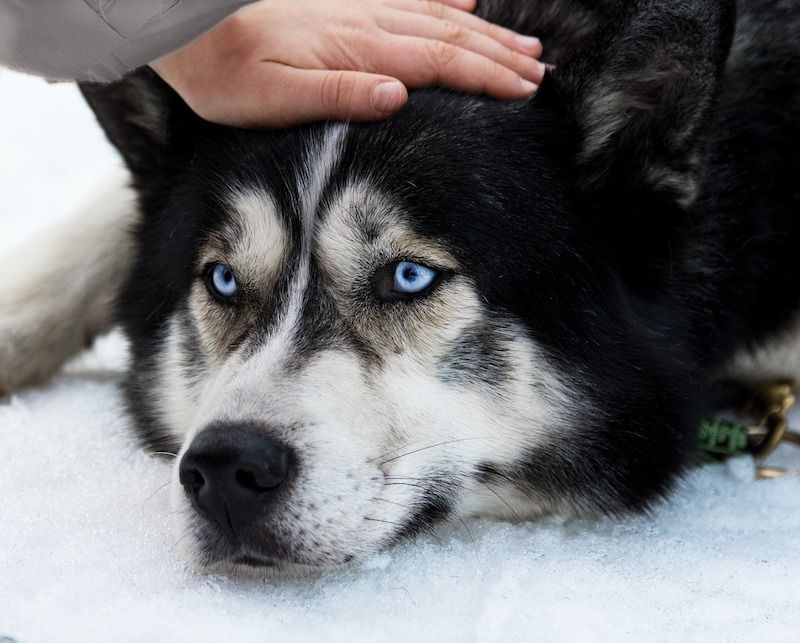husky: (95, 63, 709, 595)
